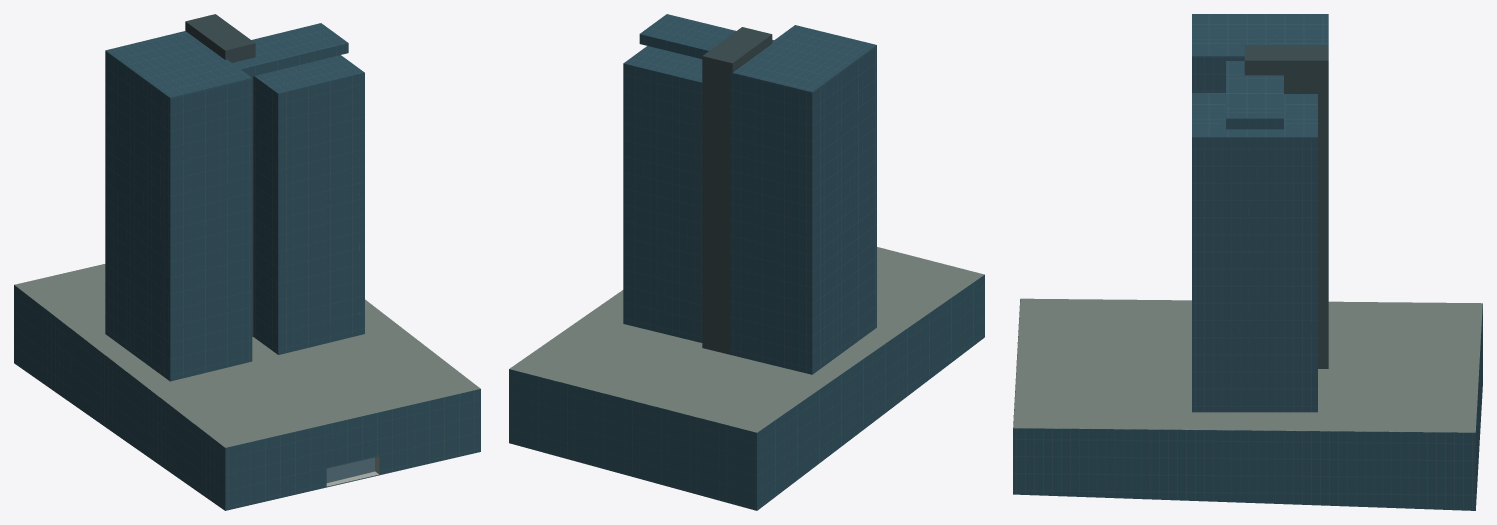
Rendered from fragments.glb.
3 views of the same model, side by side, from view 1: azimuth 30°, elevation 25°; view 2: azimuth 150°, elevation 25°; view 3: azimuth 270°, elevation 25° (orthographic). The views are drawn at different scales.
Visible parts, largest first — view 1: Practice_Fragment_043, Practice_Fragment_014, Practice_Fragment_036, Practice_Fragment_032, Practice_Fragment_012, Practice_Fragment_000, Practice_Fragment_001, Practice_Fragment_009, Practice_Fragment_007, Practice_Fragment_002, Practice_Fragment_028, Practice_Fragment_038 (+29 smaller); view 2: Practice_Fragment_055, Practice_Fragment_062, Practice_Fragment_061, Practice_Fragment_051, Practice_Fragment_046, Practice_Fragment_054, Practice_Fragment_059, Practice_Fragment_060, Practice_Fragment_058, Practice_Fragment_044, Practice_Fragment_063, Practice_Fragment_052 (+24 smaller); view 3: Practice_Fragment_059, Practice_Fragment_057, Practice_Fragment_014, Practice_Fragment_043, Practice_Fragment_016, Practice_Fragment_022, Practice_Fragment_044, Practice_Fragment_042, Practice_Fragment_025, Practice_Fragment_038, Practice_Fragment_024, Practice_Fragment_040 (+31 smaller).
Boxes of the visible parts, x1,y1,x2,y2 form: Practice_Fragment_043: [245, 31, 364, 132]; Practice_Fragment_014: [363, 364, 480, 471]; Practice_Fragment_036: [140, 60, 235, 155]; Practice_Fragment_032: [139, 138, 228, 239]; Practice_Fragment_012: [295, 384, 394, 486]; Practice_Fragment_000: [195, 414, 270, 510]; Practice_Fragment_001: [242, 401, 330, 501]; Practice_Fragment_009: [139, 253, 246, 329]; Practice_Fragment_007: [157, 309, 264, 387]; Practice_Fragment_002: [157, 384, 261, 491]; Practice_Fragment_028: [286, 232, 364, 316]; Practice_Fragment_038: [171, 16, 260, 133]; Practice_Fragment_055: [682, 226, 831, 340]; Practice_Fragment_062: [696, 54, 824, 184]; Practice_Fragment_061: [687, 144, 827, 252]; Practice_Fragment_051: [701, 396, 787, 510]; Practice_Fragment_046: [717, 320, 857, 420]; Practice_Fragment_054: [597, 369, 692, 483]; Practice_Fragment_059: [509, 338, 600, 455]; Practice_Fragment_060: [623, 214, 688, 318]; Practice_Fragment_058: [554, 347, 652, 467]; Practice_Fragment_044: [623, 26, 731, 110]; Practice_Fragment_063: [623, 114, 699, 225]; Practice_Fragment_052: [656, 385, 728, 495]; Practice_Fragment_059: [1381, 406, 1477, 510]; Practice_Fragment_057: [1300, 386, 1392, 507]; Practice_Fragment_014: [1013, 384, 1089, 496]; Practice_Fragment_043: [1192, 59, 1266, 185]; Practice_Fragment_016: [1074, 408, 1159, 499]; Practice_Fragment_022: [1148, 394, 1238, 502]; Practice_Fragment_044: [1257, 60, 1317, 179]; Practice_Fragment_042: [1245, 173, 1317, 253]; Practice_Fragment_025: [1232, 364, 1307, 438]; Practice_Fragment_038: [1192, 45, 1323, 117]; Practice_Fragment_024: [1235, 434, 1306, 504]; Practice_Fragment_040: [1192, 180, 1252, 252].
Size of the model in its own units: 1.89 by 2.57 by 2.8.
Materials: 6 (1 with a texture image).
